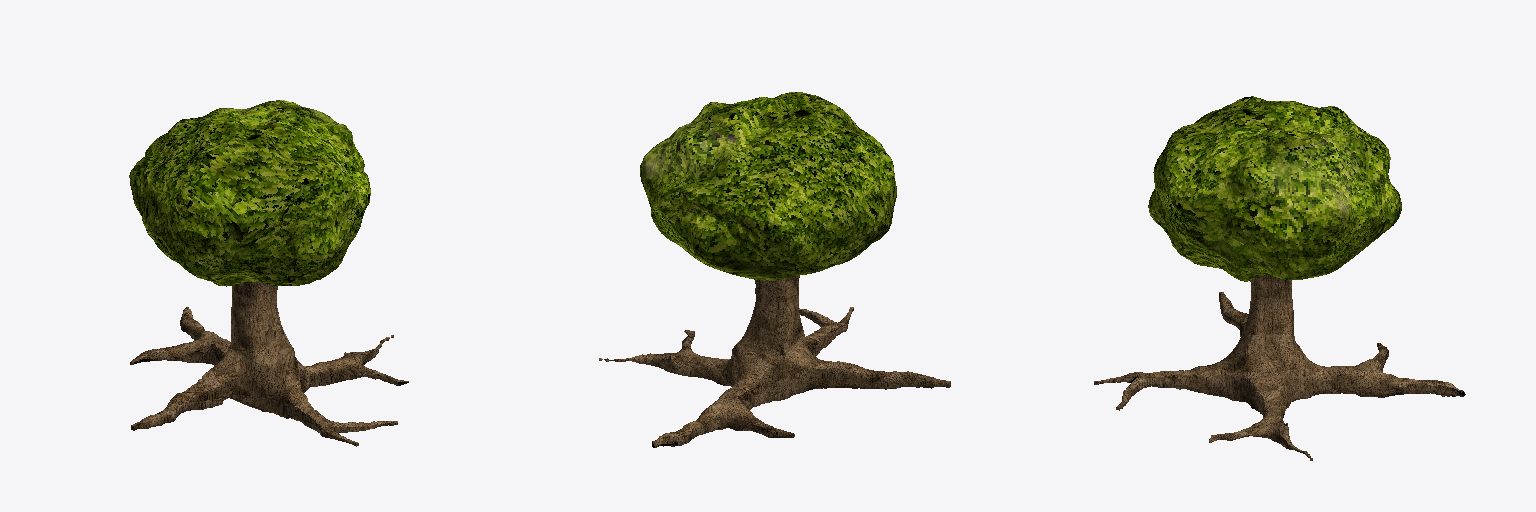
The picture shows the model from 3 angles: view 1: azimuth 30°, elevation 25°; view 2: azimuth 150°, elevation 25°; view 3: azimuth 270°, elevation 25°; orthographic projection.
Parts seen in each view (by area): view 1: Feuillage_Cube, Feuillage.001_Cube.003; view 2: Feuillage_Cube, Feuillage.001_Cube.003; view 3: Feuillage_Cube, Feuillage.001_Cube.003.
Boxes of the visible parts, x1,y1,x2,y2 form: Feuillage_Cube: [129, 100, 370, 286]; Feuillage.001_Cube.003: [130, 282, 408, 446]; Feuillage_Cube: [640, 92, 896, 280]; Feuillage.001_Cube.003: [599, 276, 950, 447]; Feuillage_Cube: [1148, 96, 1401, 281]; Feuillage.001_Cube.003: [1094, 275, 1465, 460].
Size of the model in its own units: 14.34 by 12.38 by 15.08.
2 materials, 2 textured.